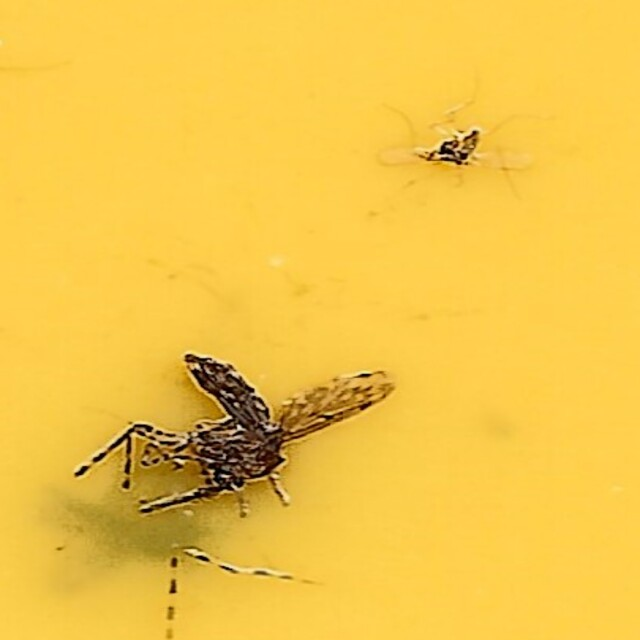Nematocera: (158, 347, 400, 510), (412, 130, 482, 171)
